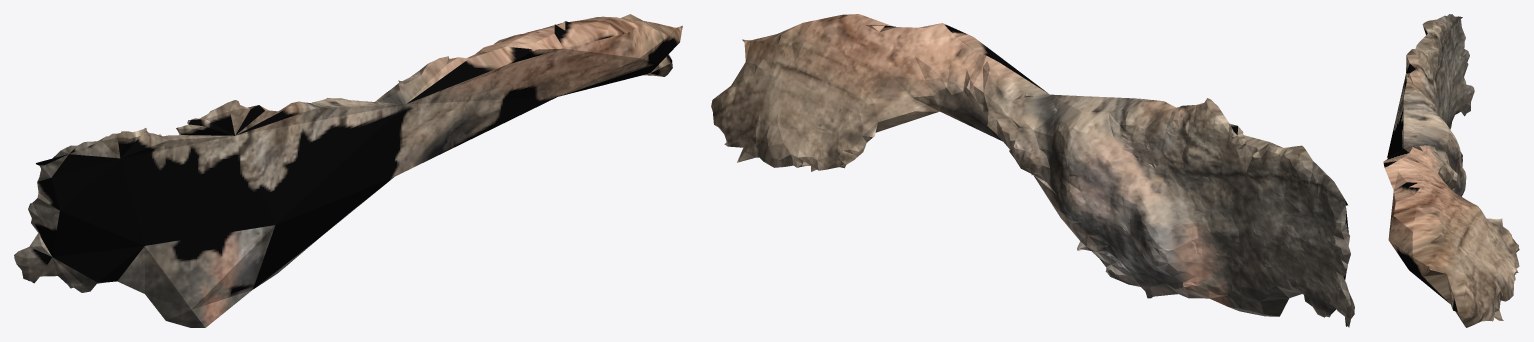
The picture shows the model from 3 angles, left to right: view 1: azimuth 30°, elevation 25°; view 2: azimuth 150°, elevation 25°; view 3: azimuth 270°, elevation 25°; orthographic projection. The views are drawn at different scales.
Visible parts, largest first — view 1: TexturedMesh; view 2: TexturedMesh; view 3: TexturedMesh.
Part boxes in pixels (x1,y1,x2,y2): TexturedMesh: (14, 14, 682, 327); TexturedMesh: (711, 14, 1354, 327); TexturedMesh: (1383, 14, 1519, 327).
Bounding box in the file's own units: 1.01 × 0.3113 × 0.2222.
Materials: 1 (1 with a texture image).
